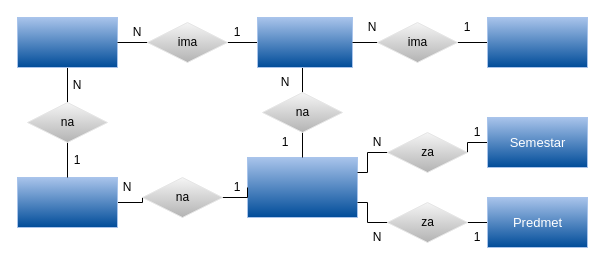
Image size: 605x265. Some labels were removed from this diagram. The box of each missing label's shape, as (x1, y1, x2, y2) in pixels:
Ispit: (16, 176, 118, 228)
Ispit studenta: (16, 16, 118, 68)
Održavanje predmeta: (246, 156, 358, 218)
Student: (486, 16, 588, 68)
Upis studenta: (256, 16, 352, 68)
